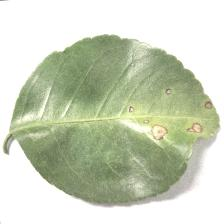canker: (132, 91, 223, 158)
